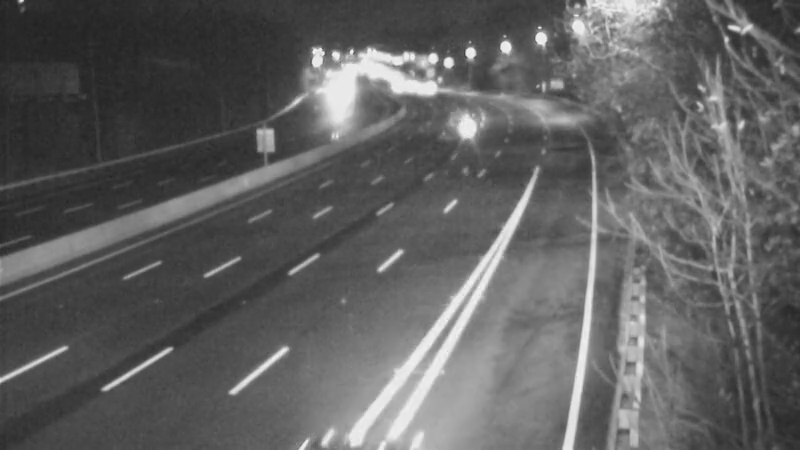vehicle: (441, 86, 491, 136)
